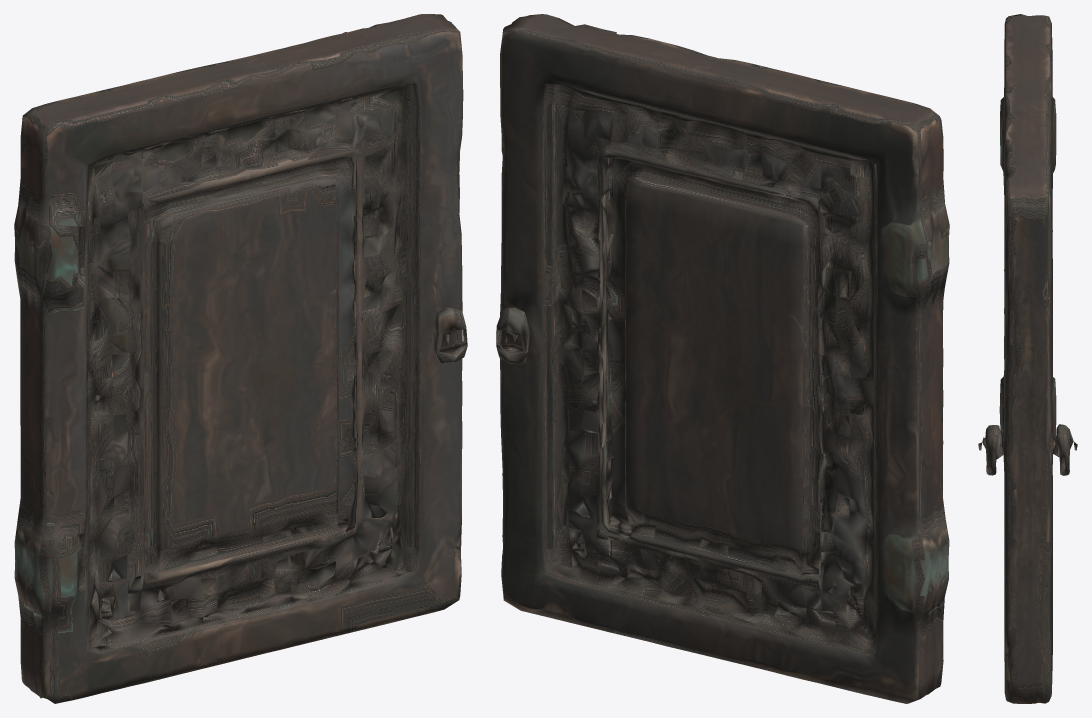
File: S1-08_cabinet_door_A.glb
The picture shows the model from 3 angles, left to right: view 1: azimuth 30°, elevation 25°; view 2: azimuth 150°, elevation 25°; view 3: azimuth 270°, elevation 25°; orthographic projection. The views are drawn at different scales.
Parts seen in each view (by area): view 1: geometry_0; view 2: geometry_0; view 3: geometry_0.
Part boxes in pixels (<box>): geometry_0: <box>14,14,467,703</box>; geometry_0: <box>496,14,949,703</box>; geometry_0: <box>978,14,1077,703</box>.
Size of the model in its own units: 1.55 by 2 by 0.3488.
1 material, 1 textured.
